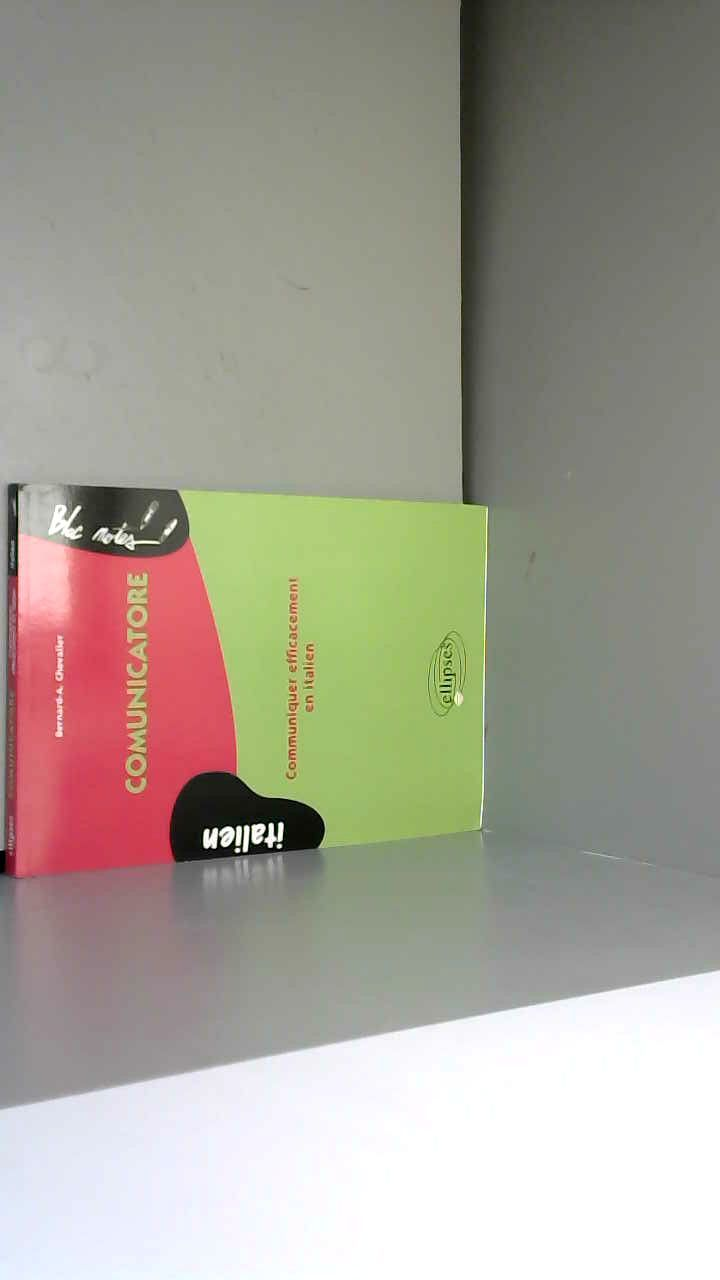book: (0, 439, 516, 921)
